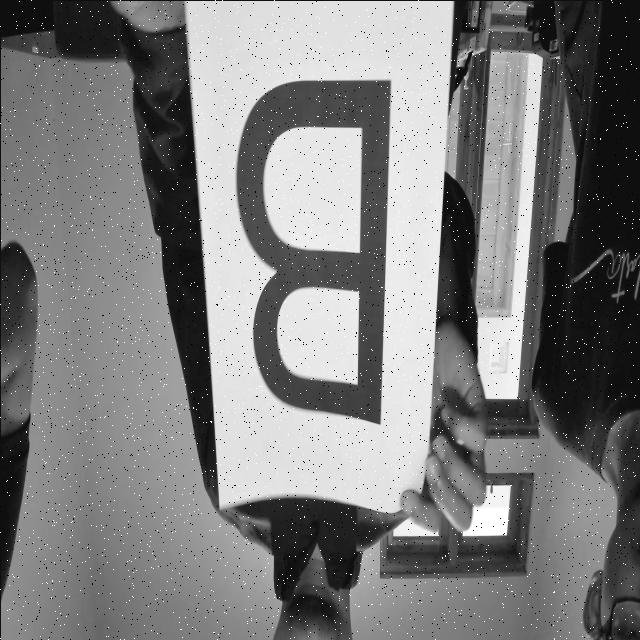b: (227, 61, 398, 439)
